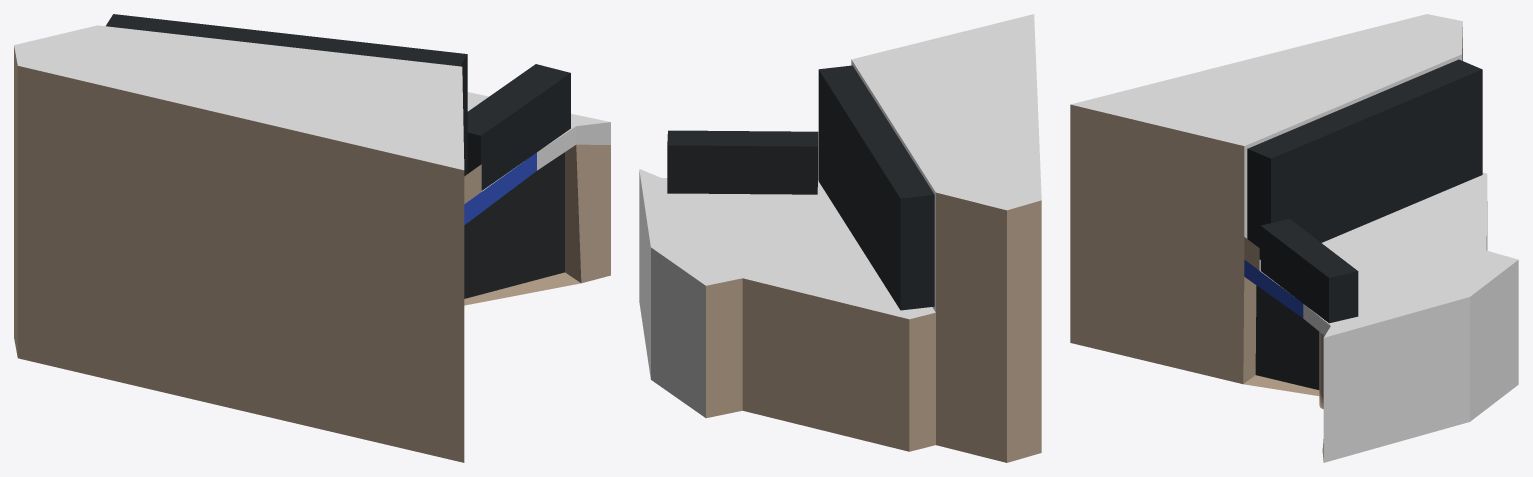
Rendered from Novotel.fbx.
The picture shows the model from 3 angles, left to right: view 1: azimuth 30°, elevation 25°; view 2: azimuth 150°, elevation 25°; view 3: azimuth 270°, elevation 25°; orthographic projection. The views are drawn at different scales.
Parts seen in each view (by area): view 1: Novotel; view 2: Novotel; view 3: Novotel.
Boxes of the visible parts, x1,y1,x2,y2 form: Novotel: (14, 14, 610, 462); Novotel: (639, 14, 1041, 462); Novotel: (1070, 14, 1518, 462).
Size of the model in its own units: 5976 by 3263 by 5376.
